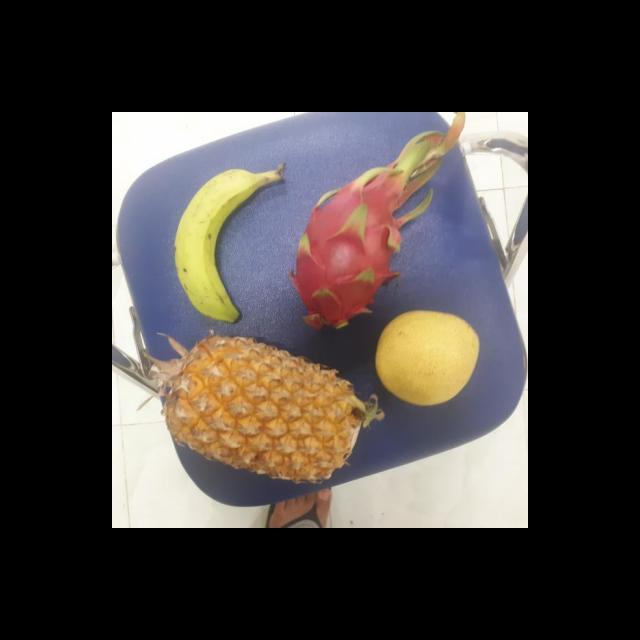banana: (172, 170, 278, 322)
pear: (371, 311, 480, 404)
pineapple: (164, 334, 363, 493)
pitaya: (283, 174, 410, 330)
